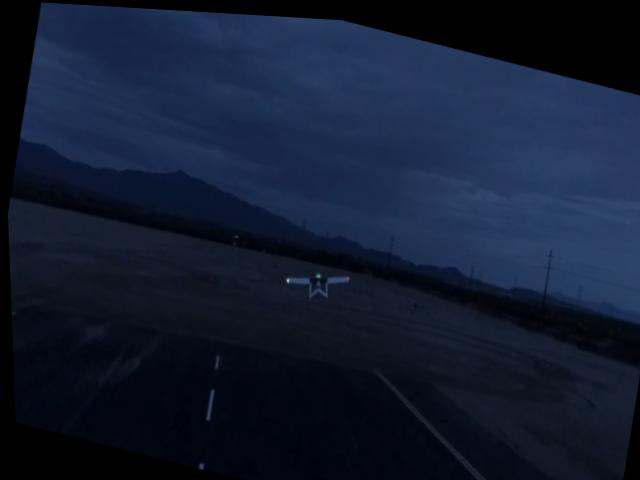plane: (278, 257, 349, 305)
